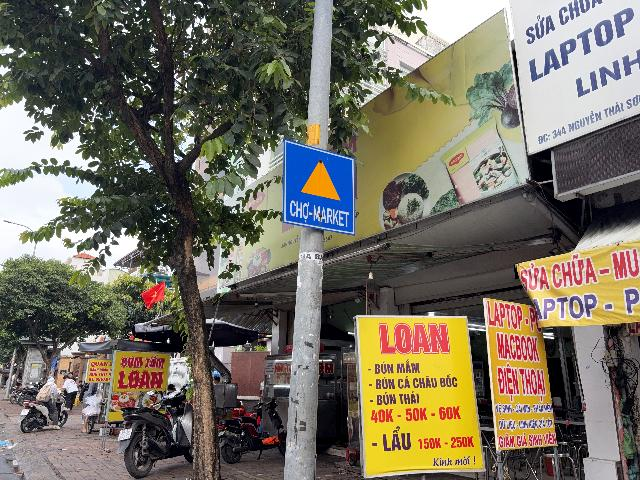khu-vuc-cho-phia-truoc: (283, 138, 356, 235)
